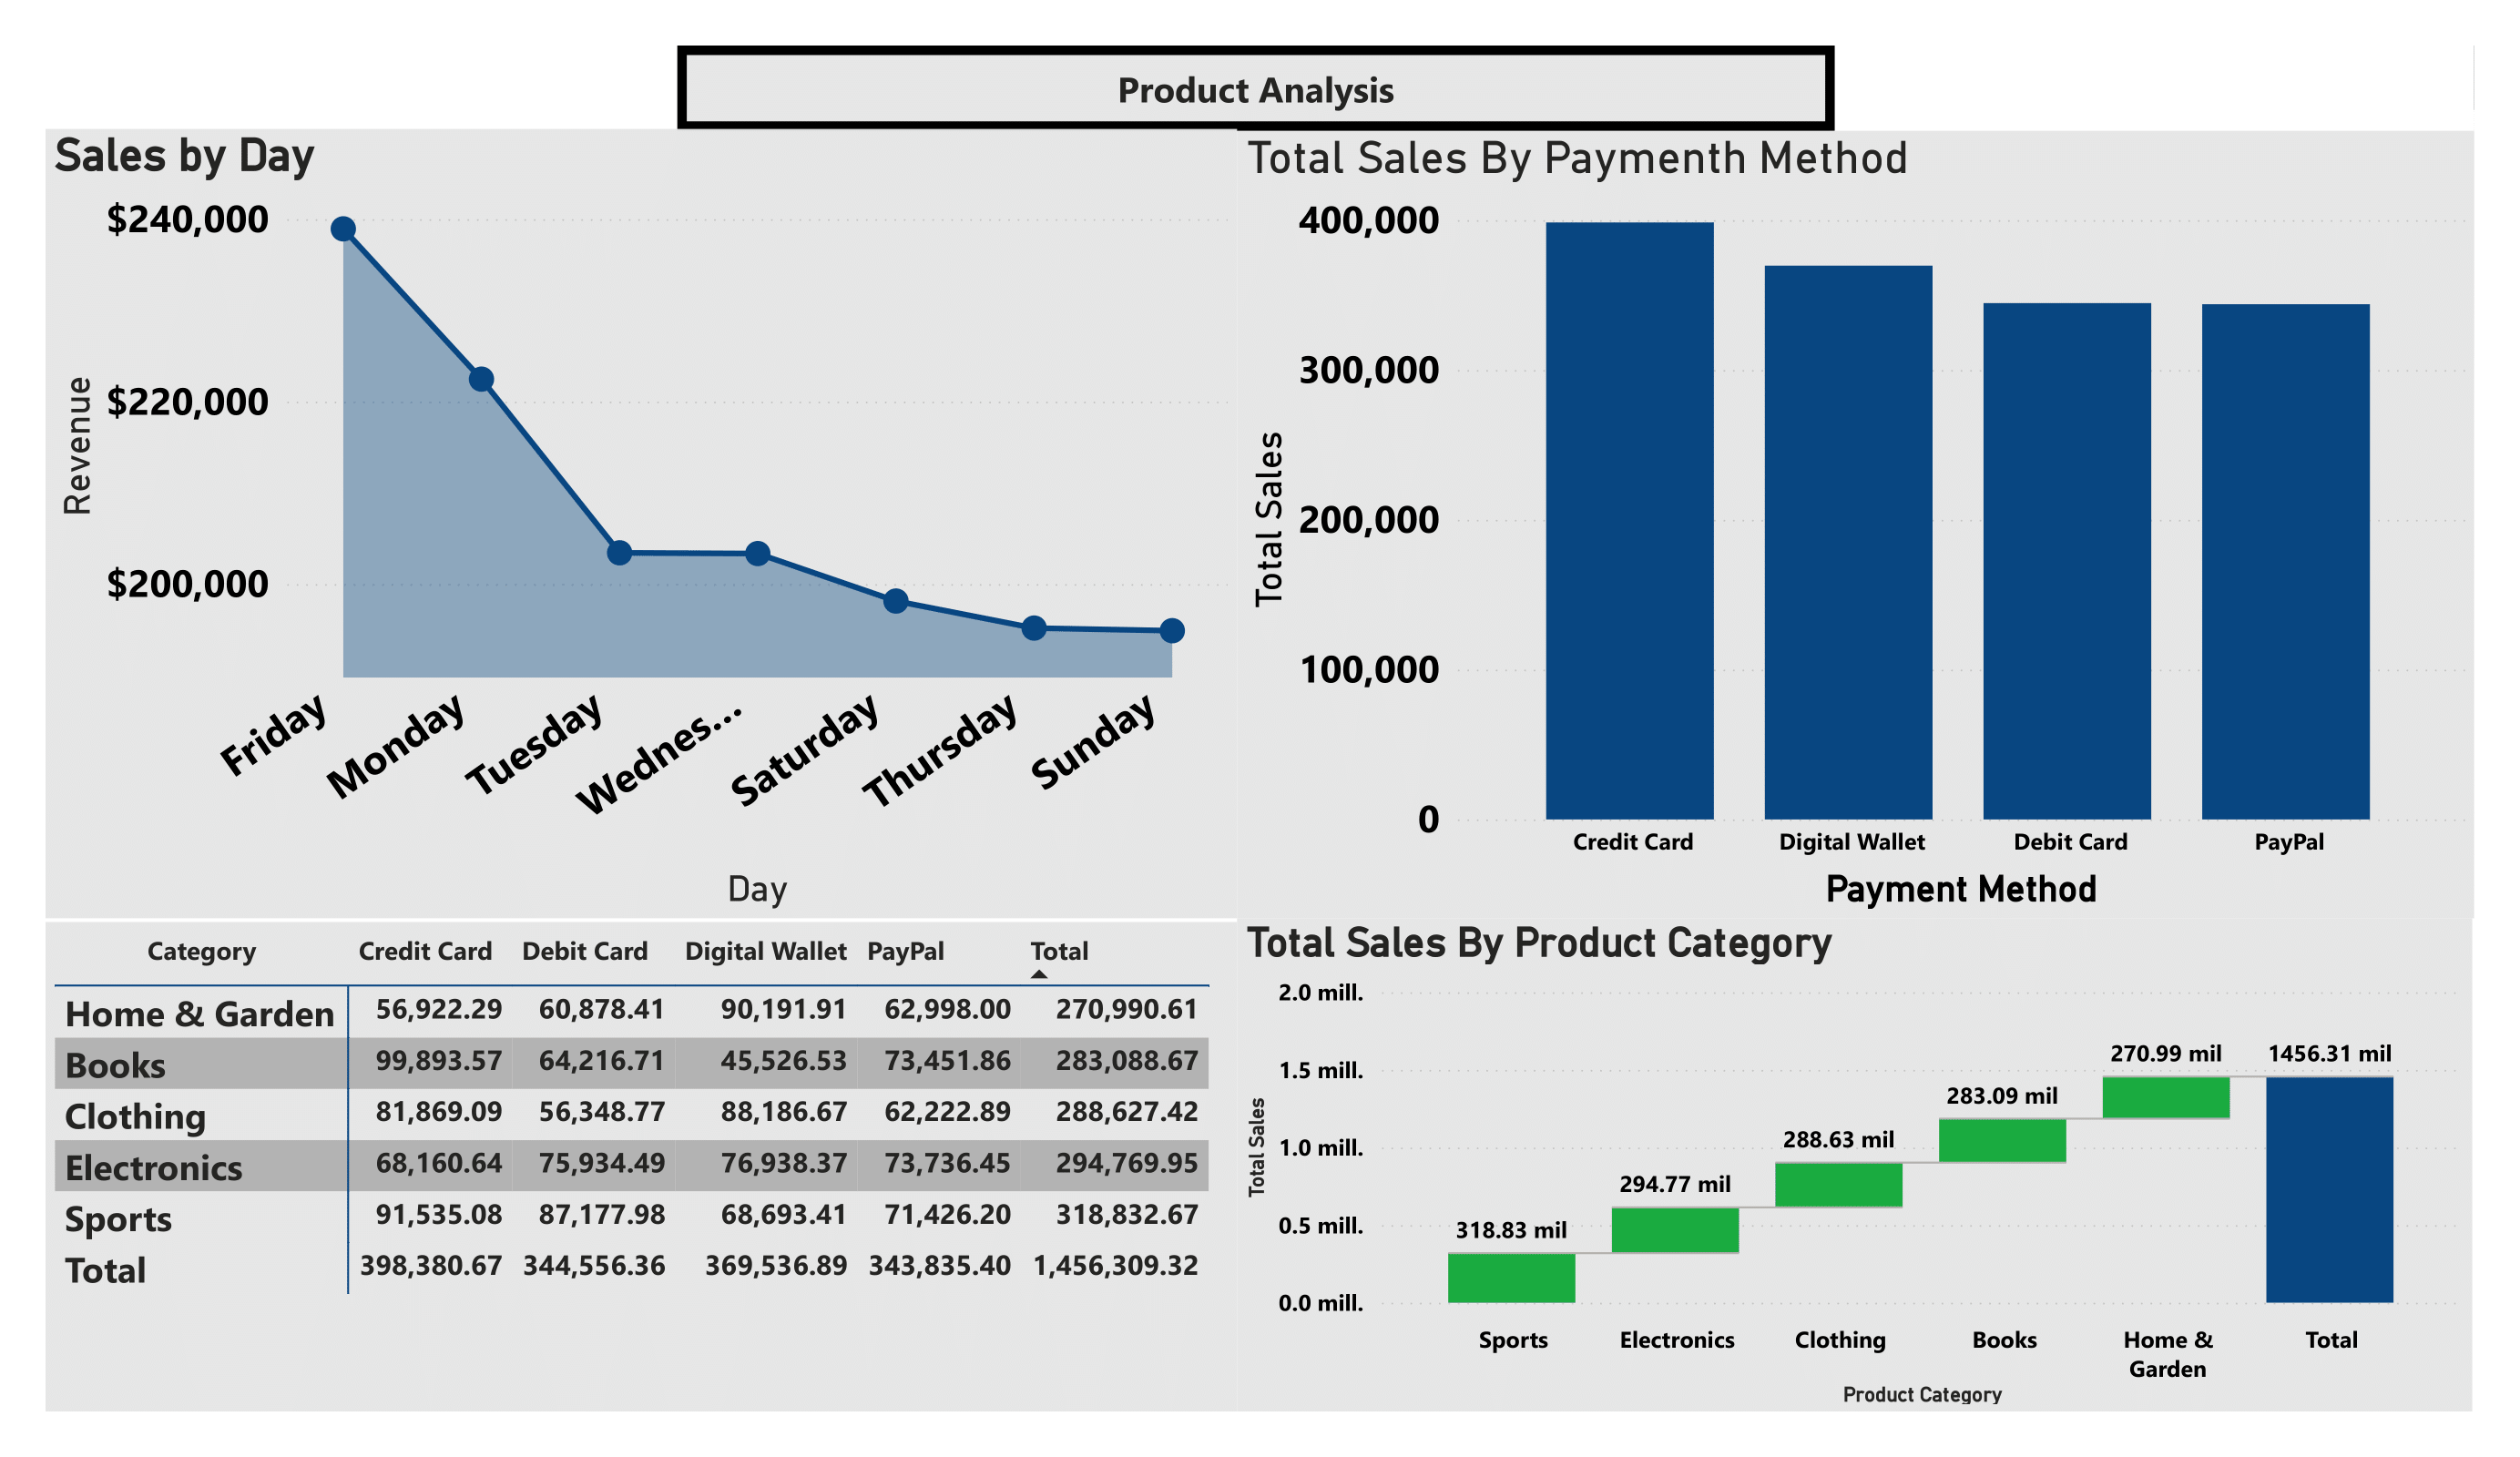

The dashboard page shown, as its layout file describes it:
{"tool":"powerbi","page":{"name":"Product Analysis","canvas":[1280,720],"ordinal":3},"visuals":[{"type":"textbox","box":[332.8,0,610.4,44.8],"z":0},{"type":"pivotTable","fields":{"Rows":["synthetic_ecommerce_data.Categoría de Producto"],"Columns":["synthetic_ecommerce_data.Método de Pago"],"Values":["Sum(synthetic_ecommerce_data.Ventas Totales)"]},"box":[0,462,628,258],"z":1000},{"type":"clusteredColumnChart","title":"Total Sales By Payment Method","fields":{"Y":["Sum(synthetic_ecommerce_data.Ventas Totales)"],"Category":["synthetic_ecommerce_data.Método de Pago"]},"box":[628.3,45,651.7,415],"z":2000},{"type":"stackedAreaChart","title":"Sales by Day ","fields":{"Category":["synthetic_ecommerce_data.Dia de la semana"],"Y":["Sum(synthetic_ecommerce_data.Ventas Totales)"]},"box":[0,44,628,416],"z":3000},{"type":"waterfallChart","title":"Total Sales By Product Category","fields":{"Category":["synthetic_ecommerce_data.ProductCategory"],"Y":["Sum(synthetic_ecommerce_data.Ventas Totales)"]},"box":[627.6,460.4,651.8,260.4],"z":4000}]}

Visuals, with their boxes on the page's 1280x720 design canvas (x1, y1, x2, y2). These are canvas units, not pixel positions in the 2520x1457 screenshot, which may show the page scaled, cropped or inside an application window:
textbox: <region>333, 0, 943, 45</region>
pivotTable - synthetic_ecommerce_data.Categoría de Producto x synthetic_ecommerce_data.Método de Pago: <region>0, 462, 628, 720</region>
"Total Sales By Payment Method" clusteredColumnChart: <region>628, 45, 1280, 460</region>
"Sales by Day " stackedAreaChart: <region>0, 44, 628, 460</region>
"Total Sales By Product Category" waterfallChart: <region>628, 460, 1279, 721</region>
